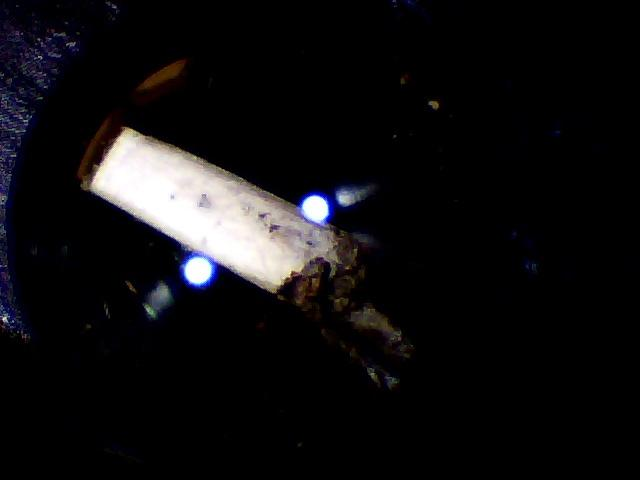megot: (71, 116, 418, 400)
